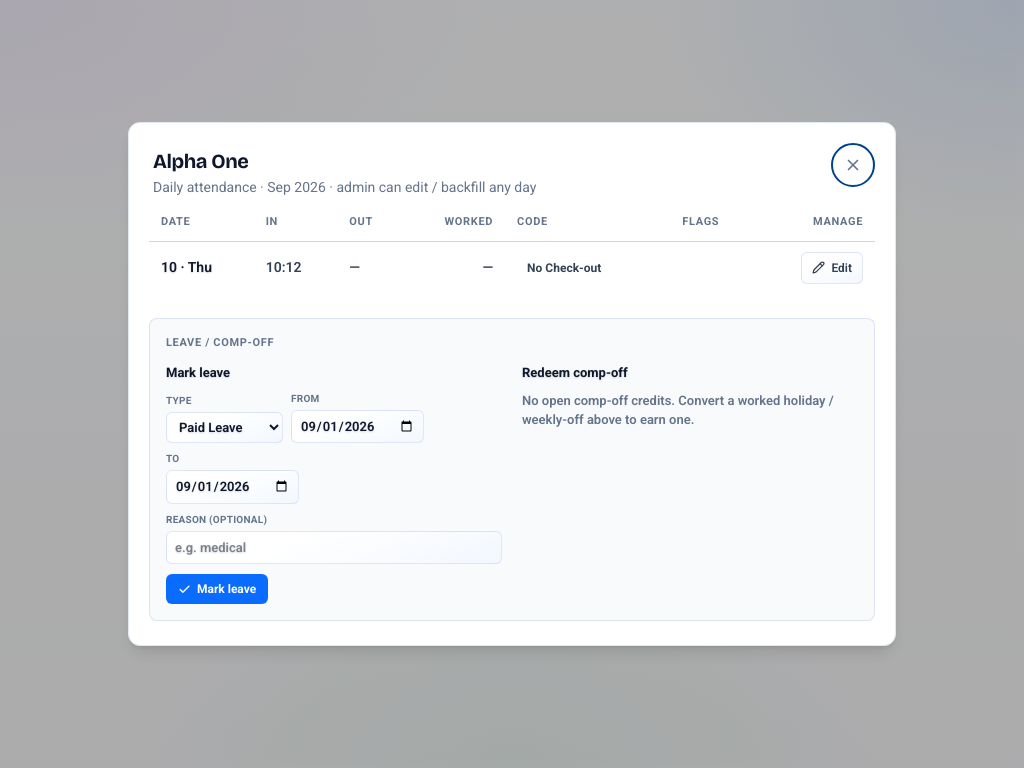
Test: admin day editor › shows the server's refusal (e.g. your own attendance) and offers no save
Click the button "Edit" at (832,268), box [801,252,863,284]
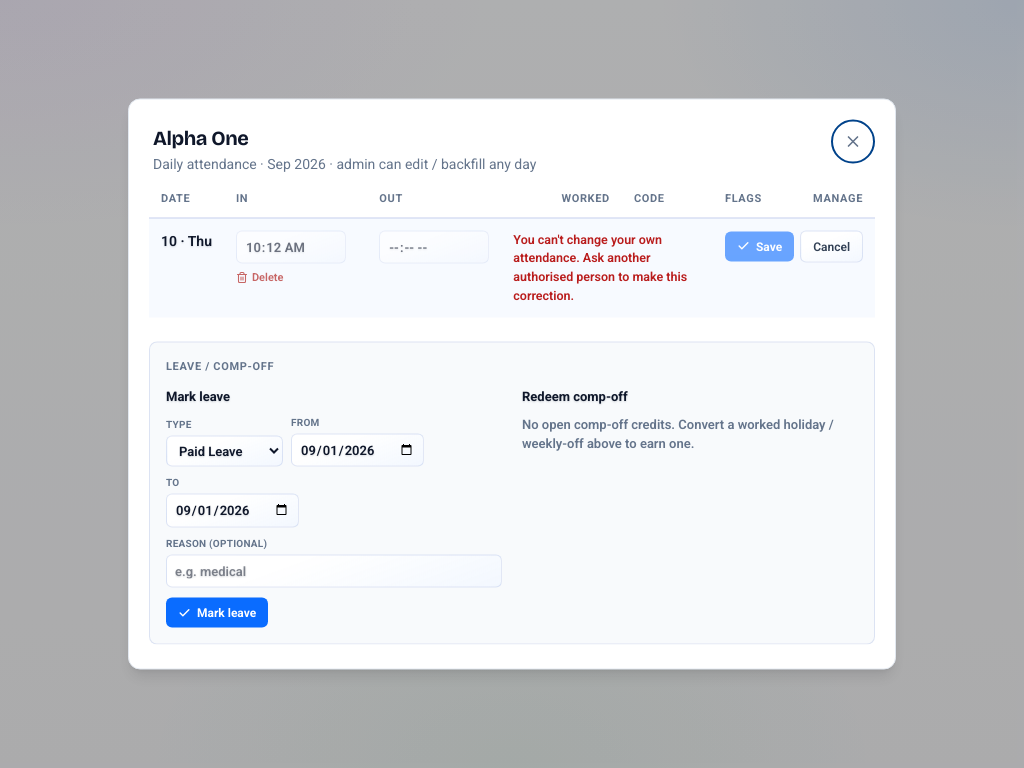
Result: the message shows "your own attendance" at [513,231,687,302]
Result: the button "Save" is disabled at [725,231,794,261]
